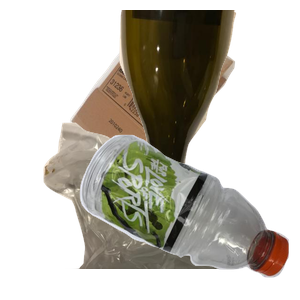cardboard: (67, 16, 295, 196)
glass: (117, 10, 300, 190)
plastic: (77, 132, 300, 300)
trash: (41, 120, 276, 300)
